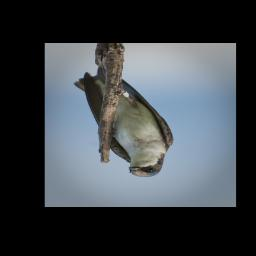Swallow: (73, 66, 174, 178)
